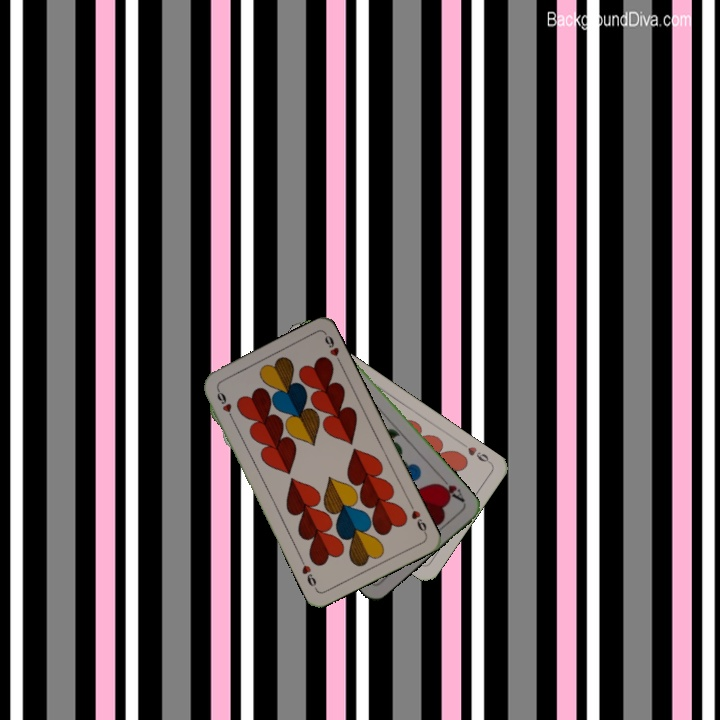H9: (458, 439, 494, 467), (406, 499, 429, 537), (213, 385, 236, 423)
HA: (433, 473, 467, 505)
